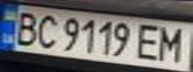1: (93, 18, 115, 56), (78, 16, 96, 54)
9: (57, 15, 81, 52), (112, 20, 136, 57)
B: (6, 9, 42, 47)
C: (30, 11, 60, 50)
E: (133, 21, 163, 61)
M: (154, 25, 190, 64)
